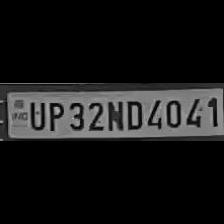0: (162, 96, 182, 128)
1: (203, 94, 221, 128)
2: (86, 98, 104, 130)
3: (64, 98, 84, 130)
4: (183, 95, 203, 127), (144, 96, 162, 130)
D: (123, 97, 143, 130)
N: (104, 97, 124, 131)
P: (46, 98, 64, 132)
U: (26, 98, 44, 130)
